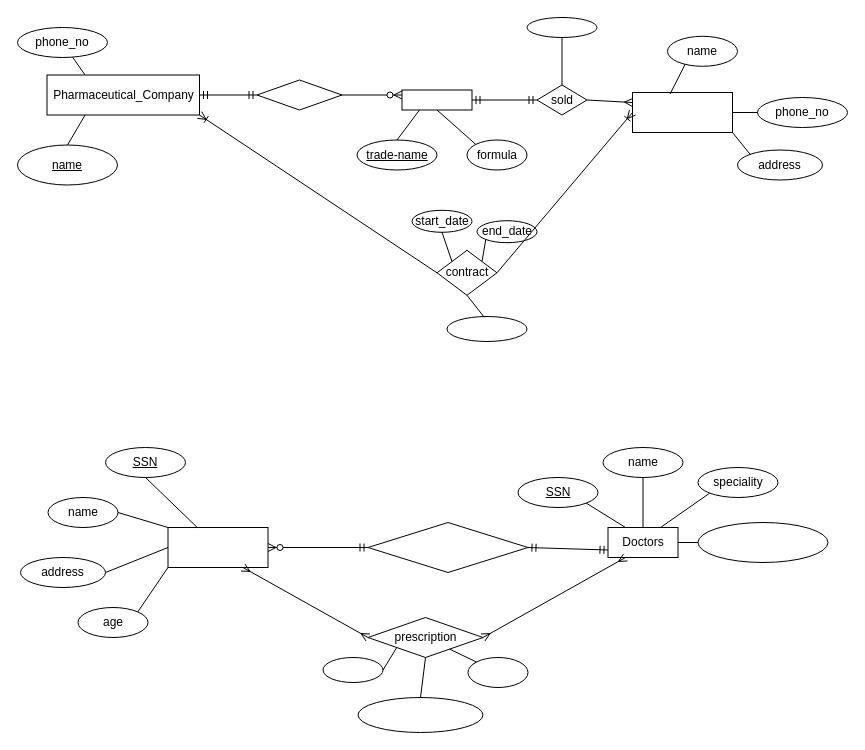
The diagram is 865 pixels wide and 750 high, and some of its shapes have lost their labels. The shapes that lost their labels are listed below. From the top down, each one's centre as x and y in pixels, then its label:
(561,27): price
(299,94): soldby
(436,99): Drug
(682,112): Pharmacy
(486,329): text_contract
(217,547): Patient
(447,547): has_primary_physician
(762,542): years_of_experience
(352,669): date
(497,672): drugs
(420,714): quantity_associated
